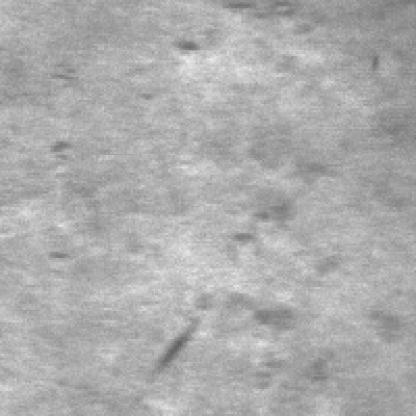rolled-in_scale: (248, 212, 352, 391), (223, 144, 341, 264), (170, 4, 322, 77), (198, 292, 304, 375)
